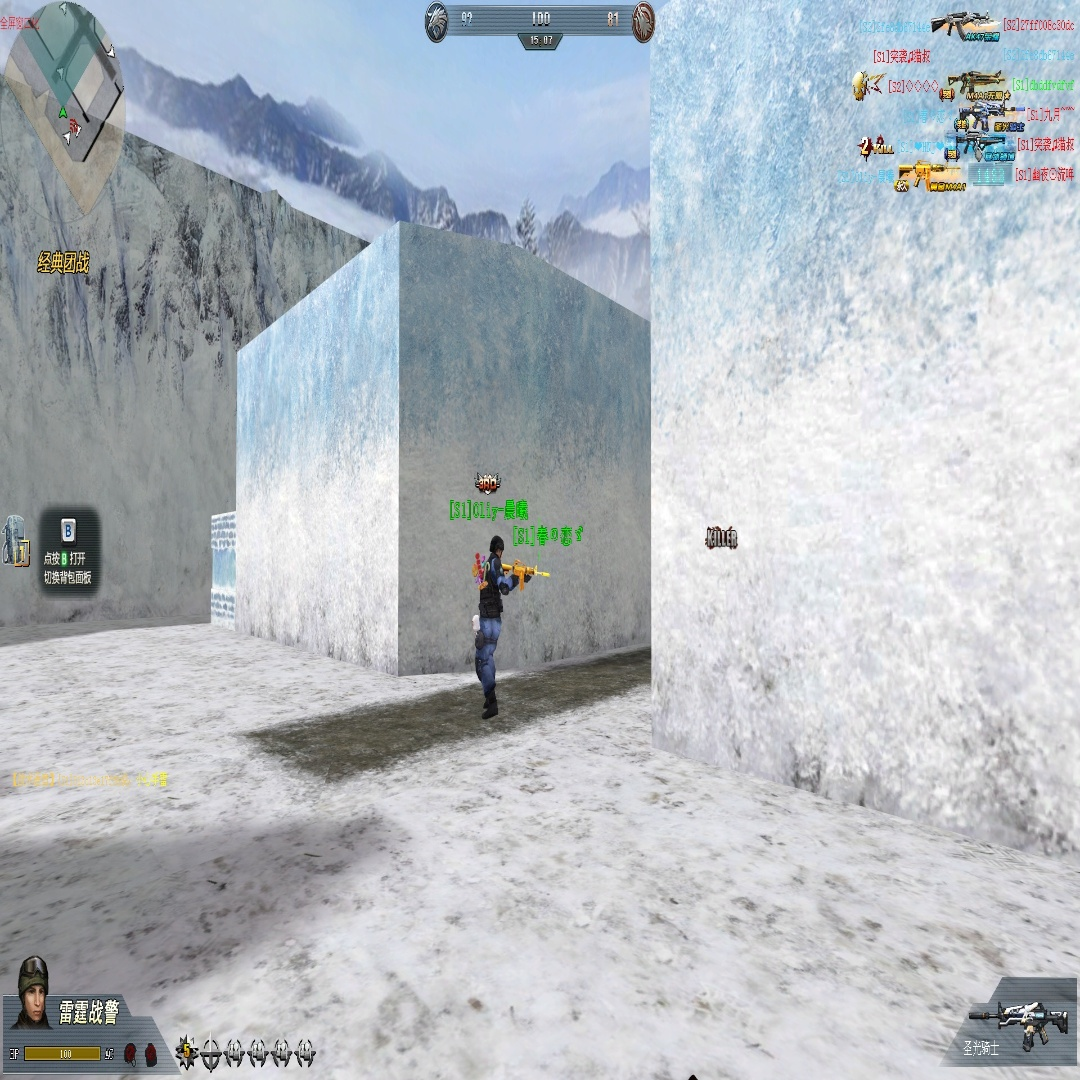t: (471, 534, 535, 719), (475, 471, 501, 492)
